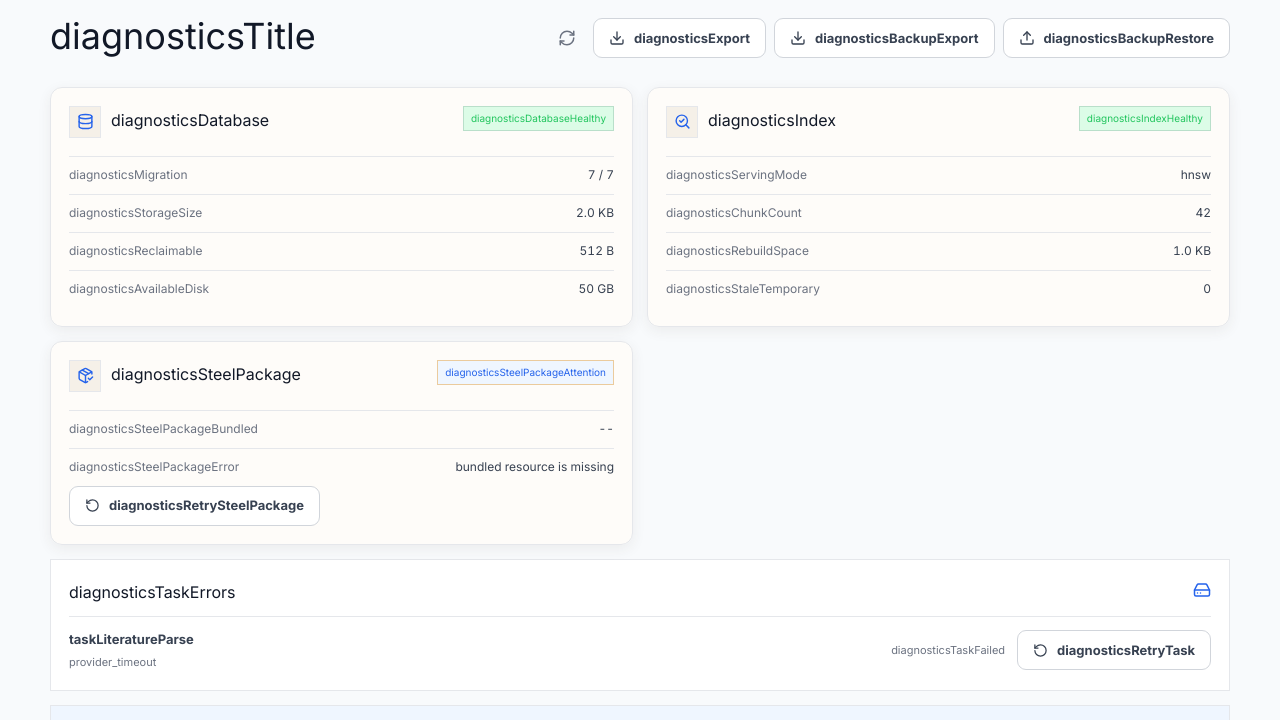
Test: DiagnosticsPage › shows and repairs a bundled steel package initialization failure
Expected: the text "bundled resource is missing" is shown, [455,458,614,476]
Click the button "diagnosticsRetrySteelPackage" at x=194, y=506, box [69,486,320,526]
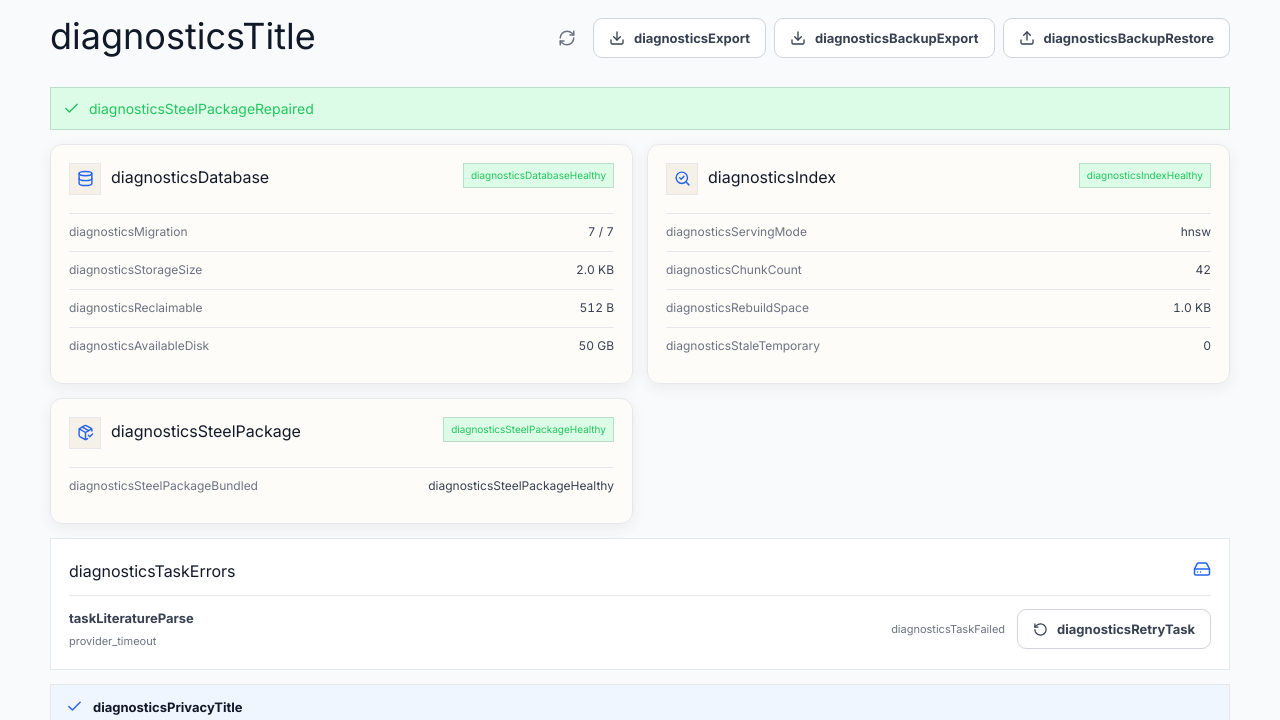
Now the text "diagnosticsSteelPackageRepaired" is shown, box [89,98,314,119]
